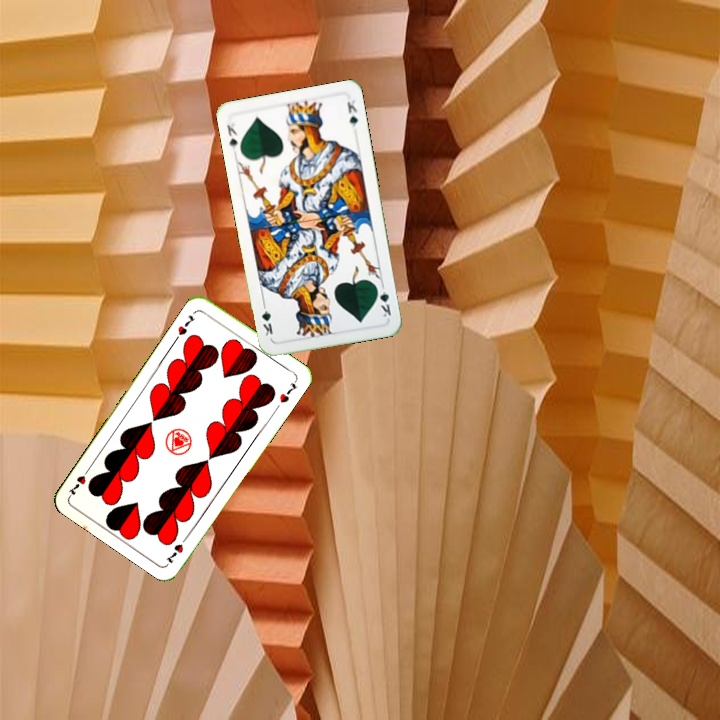GK: (372, 280, 394, 320), (223, 119, 240, 152)
H7: (162, 531, 191, 566), (173, 311, 198, 338)
